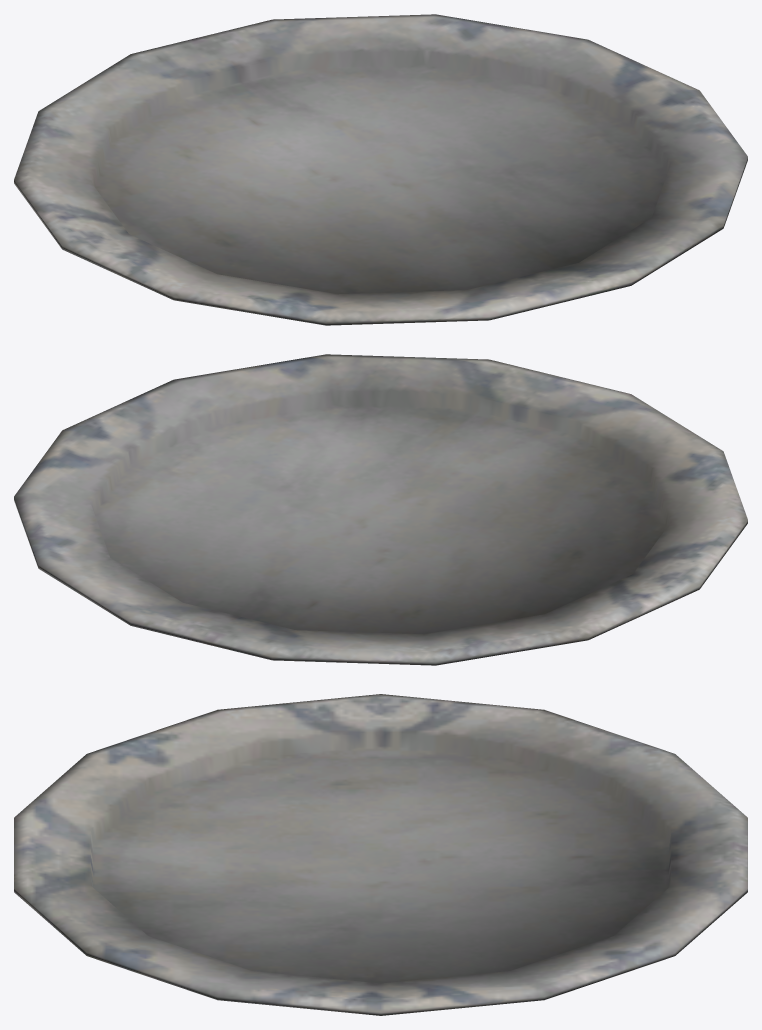
File: plate.dae
3 renders of one model, top to bottom at view 1: azimuth 30°, elevation 25°; view 2: azimuth 150°, elevation 25°; view 3: azimuth 270°, elevation 25°, orthographic. The views are drawn at different scales.
Visible parts, largest first — view 1: polySurface1; view 2: polySurface1; view 3: polySurface1.
Part boxes in pixels (x1,y1,x2,y2): polySurface1: (14, 14, 747, 325); polySurface1: (14, 354, 747, 665); polySurface1: (14, 694, 747, 1015).
Size of the model in its own units: 0.3336 by 0.0176 by 0.3252.
